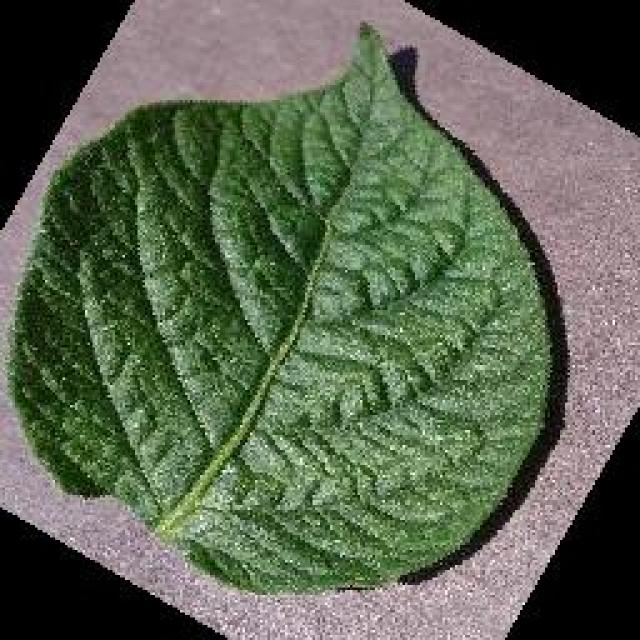Potato___healthy: (4, 18, 557, 600)
